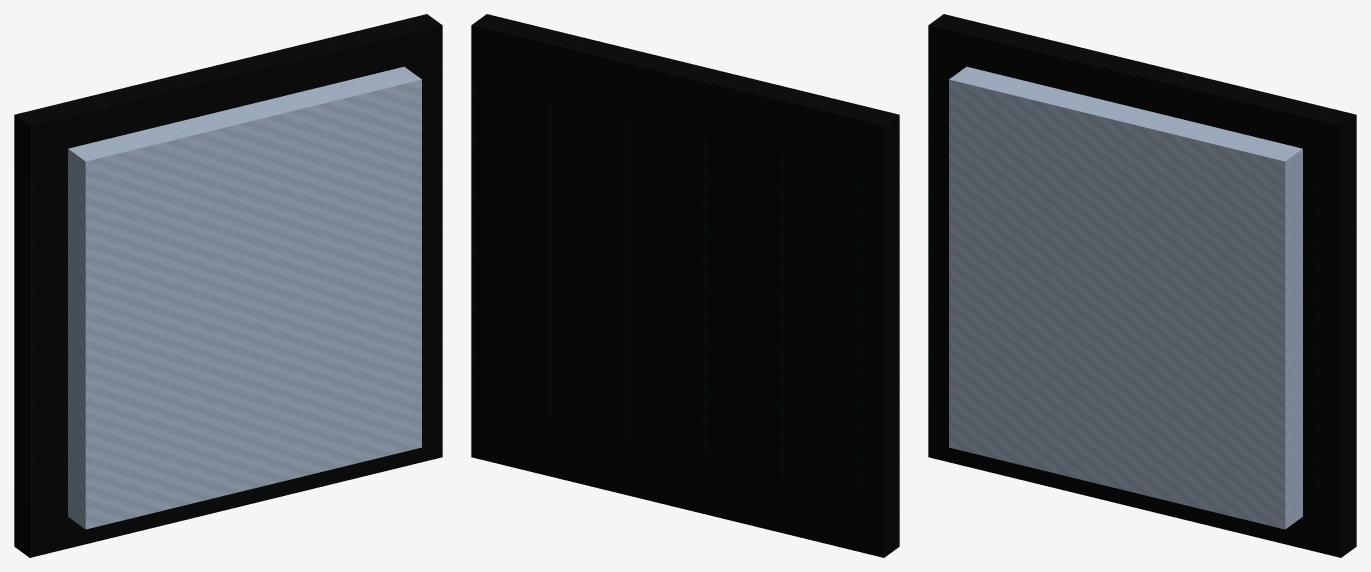
File: ryzen-7-7800x3d.glb
The picture shows the model from 3 angles, left to right: view 1: azimuth 30°, elevation 25°; view 2: azimuth 150°, elevation 25°; view 3: azimuth 330°, elevation 25°; orthographic projection.
Parts seen in each view (by area): view 1: CpuNickelIHS, CpuSubstratePCB; view 2: CpuSubstratePCB; view 3: CpuNickelIHS, CpuSubstratePCB.
Boxes of the visible parts, x1=… form: CpuNickelIHS: x1=68, y1=66, x2=421, y2=529; CpuSubstratePCB: x1=14, y1=14, x2=442, y2=557; CpuSubstratePCB: x1=471, y1=14, x2=899, y2=557; CpuNickelIHS: x1=949, y1=66, x2=1302, y2=529; CpuSubstratePCB: x1=928, y1=14, x2=1356, y2=557.
Bounding box in the file's own units: 0.54 × 0.54 × 0.075.
Materials: 2 (2 with a texture image).
